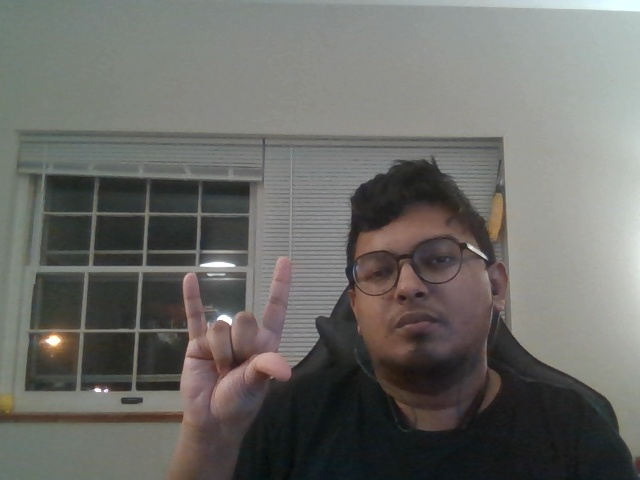ilikeyou: (162, 242, 306, 428)
